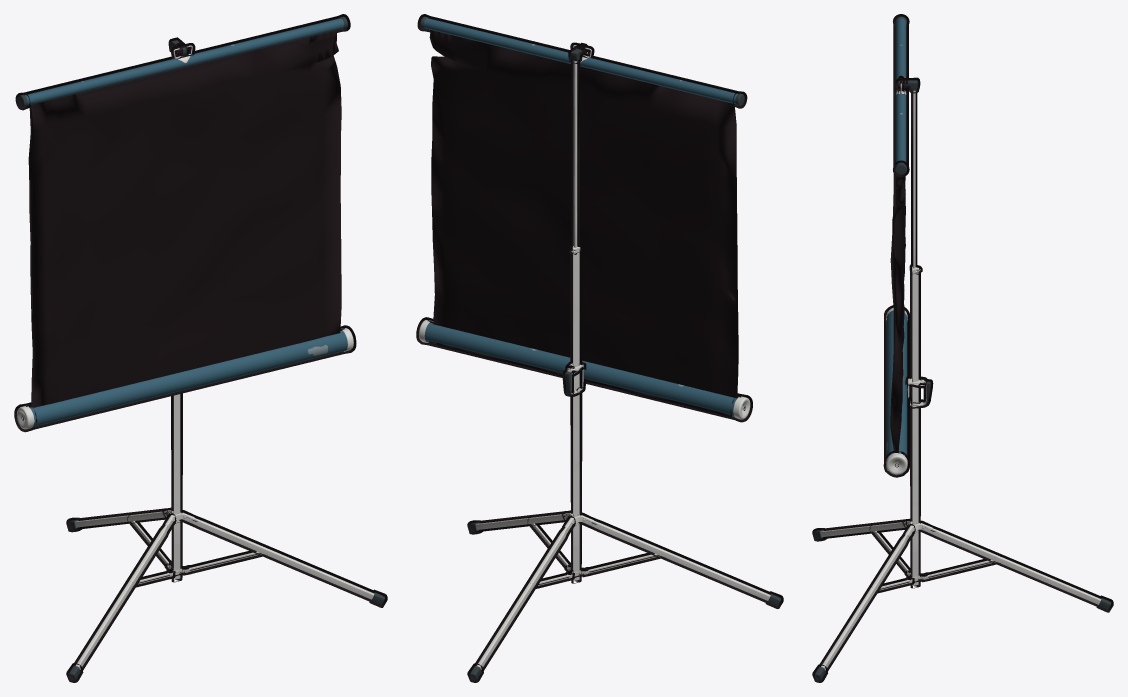
File: SM_Int_ProjectorScreen.fbx
The picture shows the model from 3 angles, left to right: view 1: azimuth 30°, elevation 25°; view 2: azimuth 150°, elevation 25°; view 3: azimuth 270°, elevation 25°; orthographic projection. The views are drawn at different scales.
Visible parts, largest first — view 1: SM_Int_ProjectorScreen; view 2: SM_Int_ProjectorScreen; view 3: SM_Int_ProjectorScreen.
Part boxes in pixels (box(x1,y1,x2,y2)): SM_Int_ProjectorScreen: box(14, 14, 387, 682); SM_Int_ProjectorScreen: box(416, 14, 783, 682); SM_Int_ProjectorScreen: box(812, 14, 1113, 682).
Size of what is drawn, in the model's own units: 1.11 by 1.81 by 0.9317.
